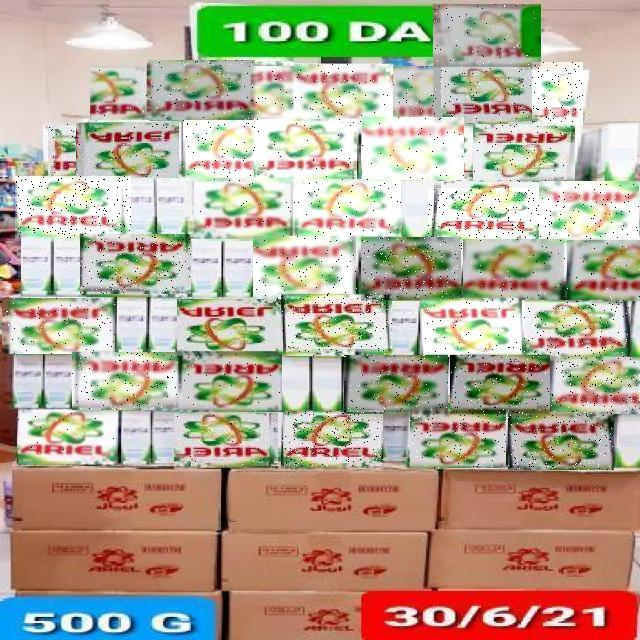Detergent: (15, 177, 131, 239), (429, 188, 543, 250), (279, 295, 392, 357), (433, 4, 541, 67), (293, 179, 401, 241), (80, 235, 191, 295), (254, 236, 358, 299), (147, 60, 255, 120), (522, 300, 630, 360), (362, 117, 464, 180), (254, 119, 357, 181), (72, 353, 182, 411), (2, 298, 115, 354), (464, 239, 566, 301), (361, 237, 461, 300), (434, 65, 538, 125), (420, 298, 525, 357), (508, 413, 614, 471), (194, 178, 294, 239), (539, 181, 639, 242), (178, 300, 286, 356), (178, 354, 282, 412), (344, 356, 448, 414), (473, 124, 575, 182), (174, 413, 278, 469), (450, 356, 550, 414), (76, 122, 179, 178), (282, 411, 384, 467), (294, 64, 391, 122), (19, 410, 119, 464), (411, 412, 507, 468), (550, 357, 639, 414), (567, 240, 640, 301), (183, 120, 257, 180), (532, 63, 583, 127), (90, 66, 150, 120), (386, 69, 443, 123), (393, 67, 441, 123), (251, 66, 297, 120), (48, 124, 84, 178)
